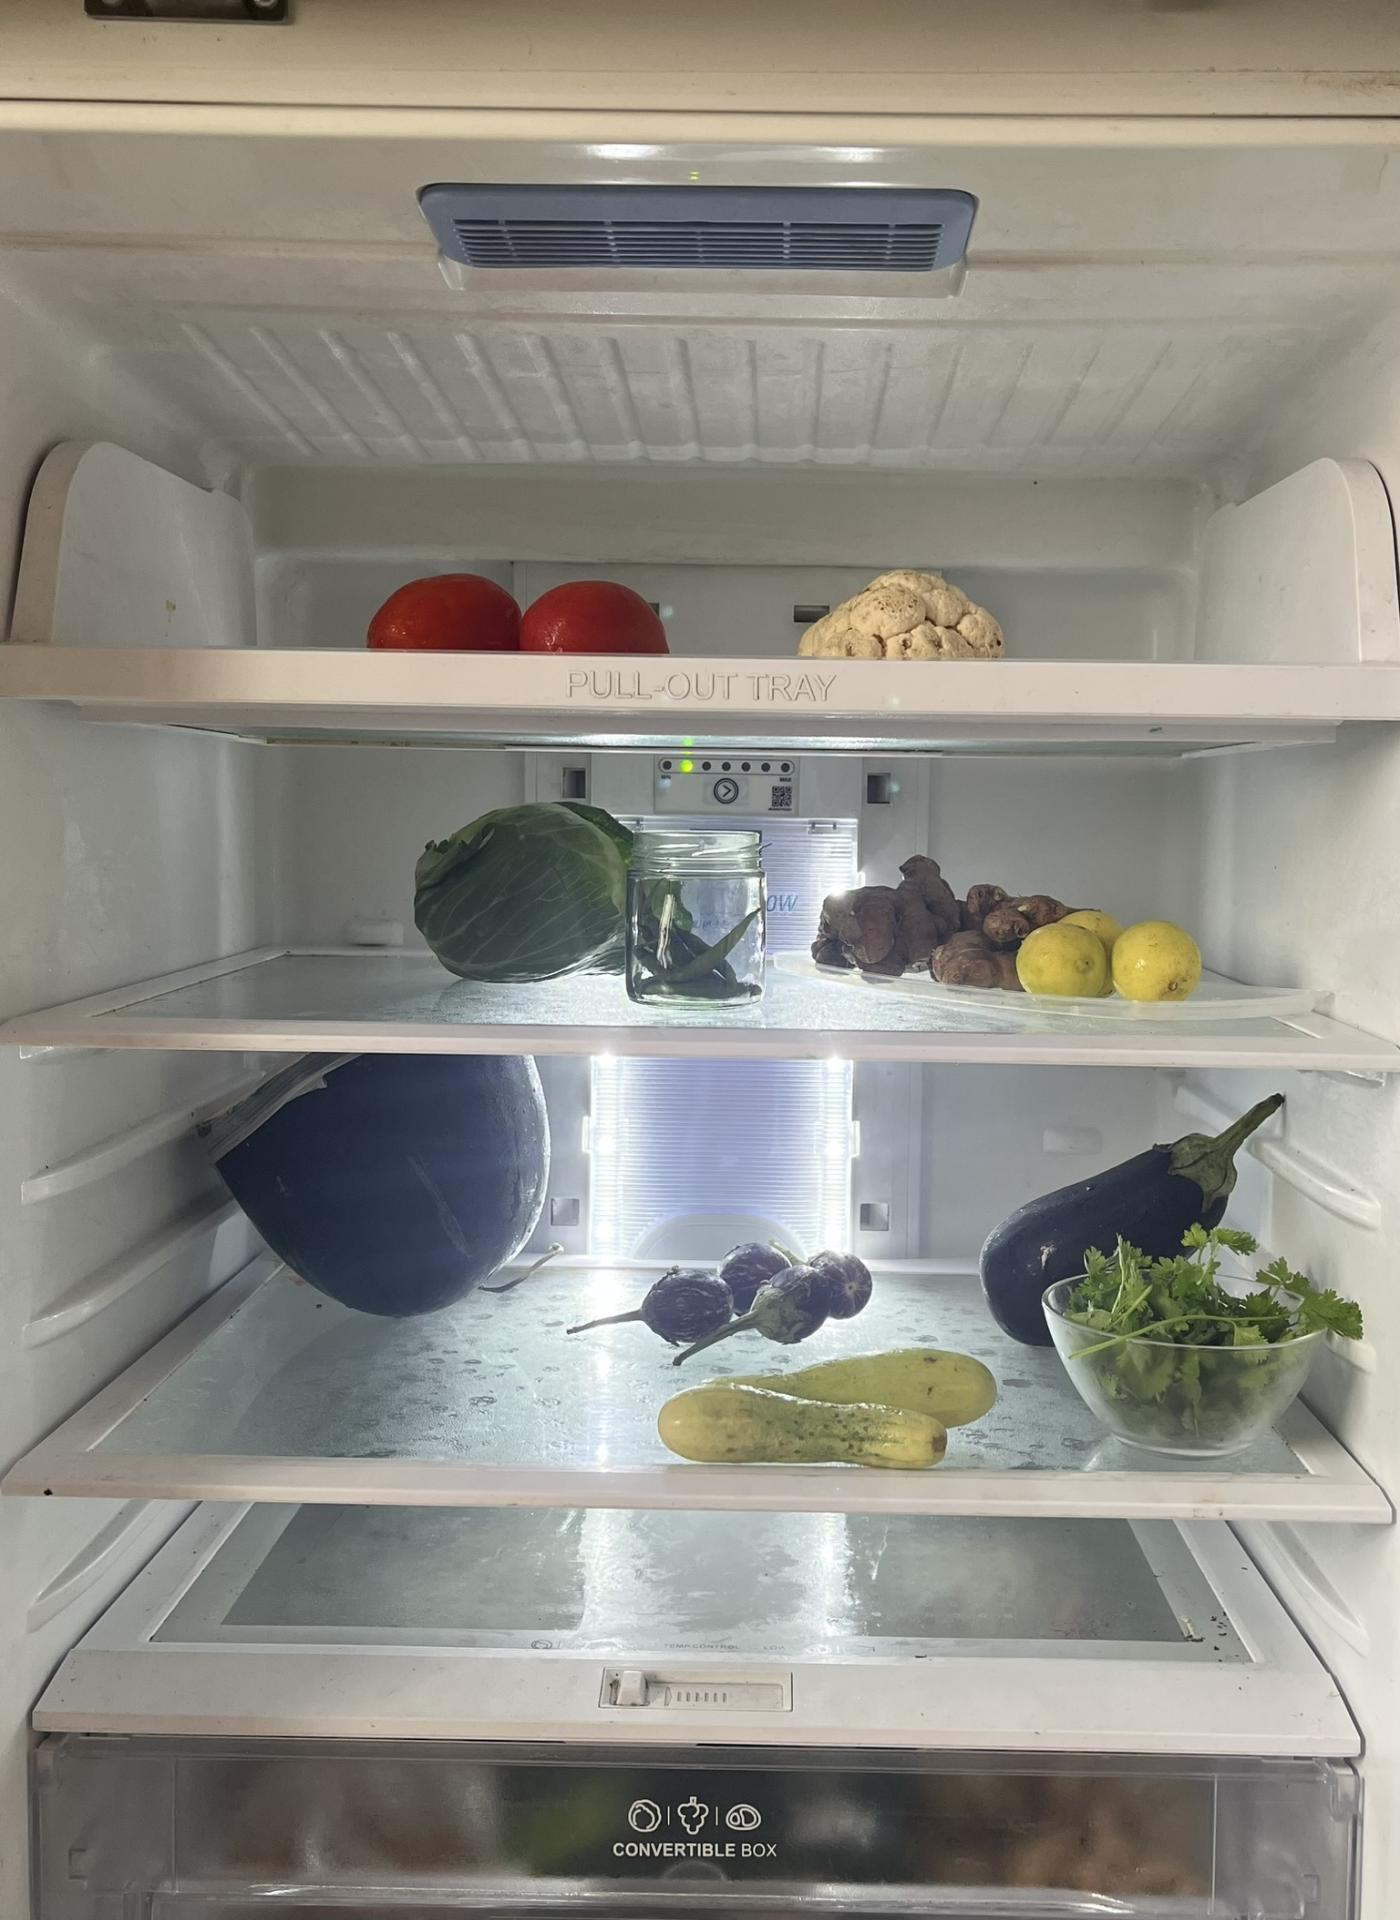brinjal: (987, 1099, 1287, 1349), (619, 1231, 881, 1351)
cabbage: (406, 798, 634, 984)
cauliflower: (790, 563, 1014, 662)
chillies: (619, 857, 769, 997)
coriander: (1036, 1227, 1364, 1443)
cucumber: (647, 1334, 1002, 1462)
ginger: (813, 854, 1032, 997)
lemon: (1014, 908, 1212, 1002)
tomato: (356, 572, 671, 659)
watermelon: (197, 1072, 553, 1337)
